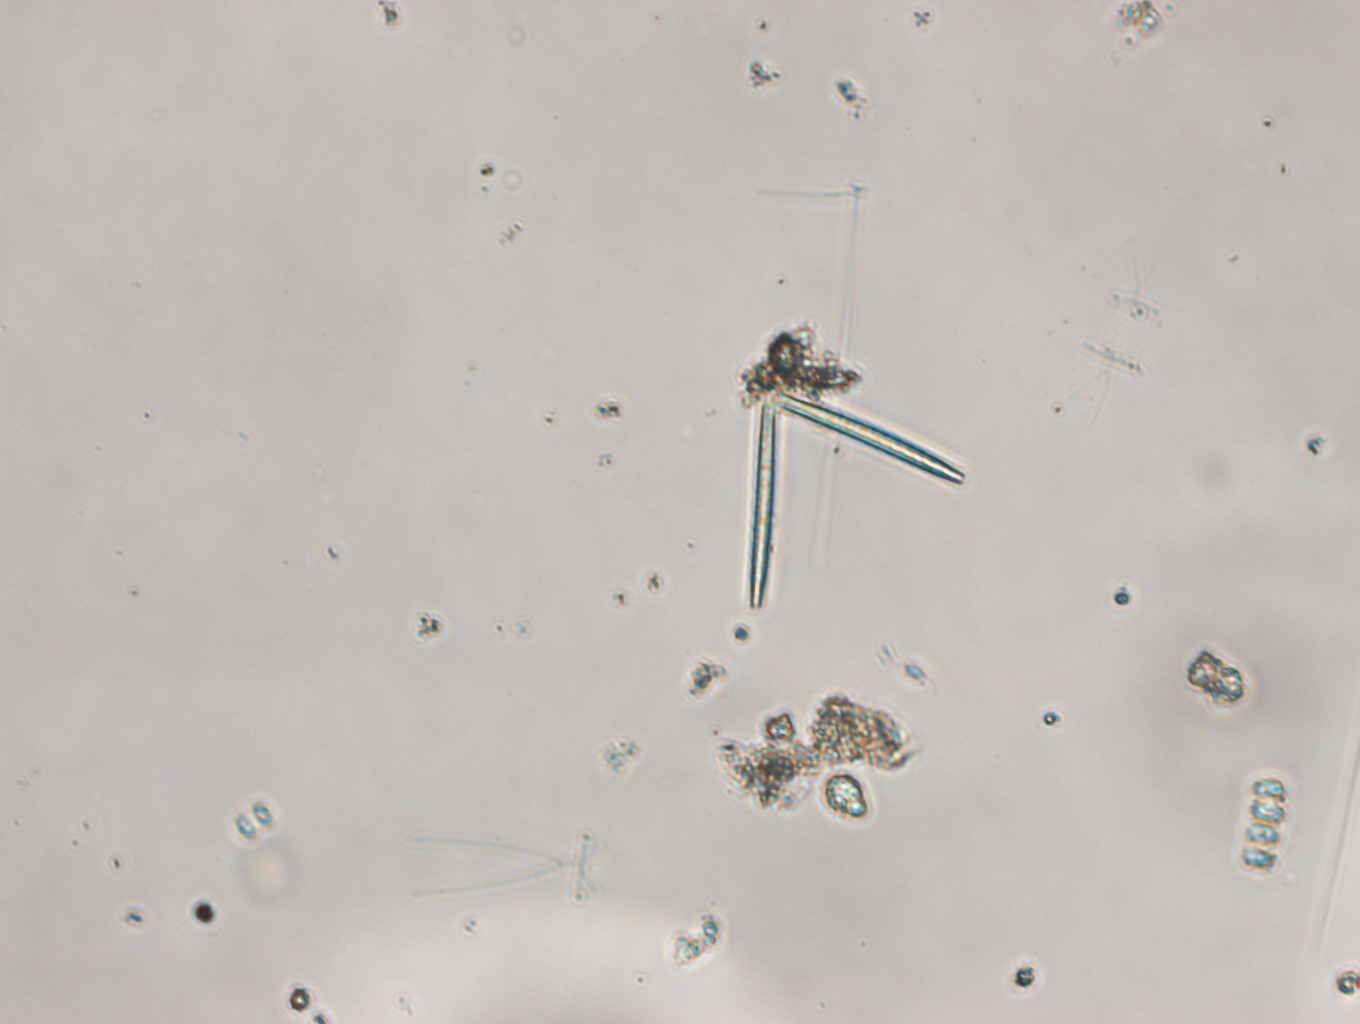thalassionema frauenfeldii: (740, 390, 967, 607)
